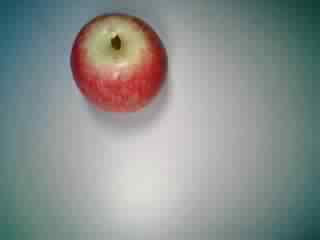apple: (67, 10, 171, 114)
